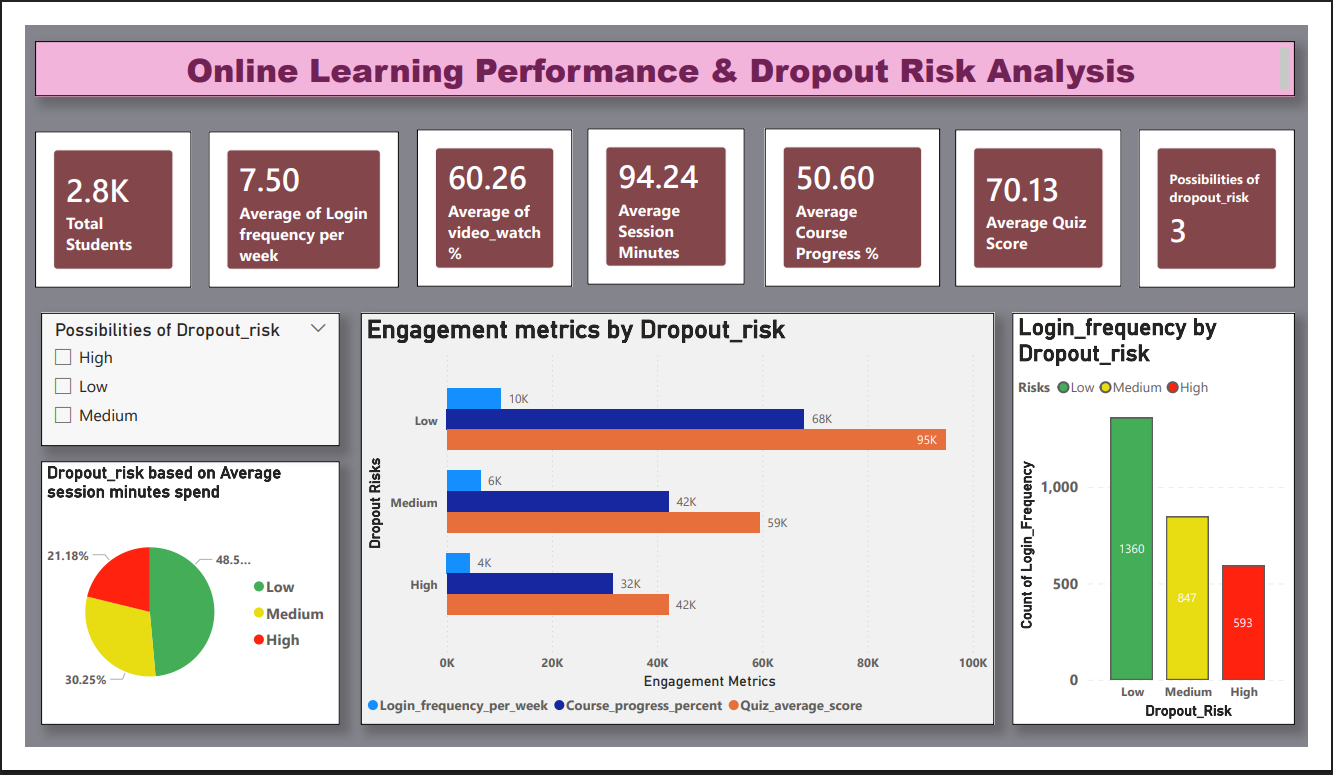

Layout of this report page (visuals, bound fields, positions):
{"tool":"powerbi","page":{"name":"Page 1","canvas":[1280,720],"ordinal":0},"visuals":[{"type":"textbox","box":[9.6,16.5,1257,54.9],"z":0},{"type":"cardVisual","fields":{"Data":["Avg(online_learning_engagement_dropout_risk.video_watch_percent)"]},"box":[391.1,104.3,155.1,156.4],"z":1000},{"type":"cardVisual","fields":{"Data":["Avg(online_learning_engagement_dropout_risk.avg_session_minutes)"]},"box":[561.2,102.9,156.4,156.4],"z":2000},{"type":"cardVisual","fields":{"Data":["Count(online_learning_engagement_dropout_risk.dropout_risk)"]},"box":[1111.5,104.3,155.1,157.8],"z":3000},{"type":"cardVisual","fields":{"Data":["Avg(online_learning_engagement_dropout_risk.quiz_average_score)"]},"box":[927.6,104.3,166,156.4],"z":4000},{"type":"cardVisual","fields":{"Data":["Avg(online_learning_engagement_dropout_risk.course_progress_percent)"]},"box":[738.3,102.9,174.3,157.8],"z":5000},{"type":"pieChart","title":"Dropout_risk based on Average session minutes spend ","fields":{"Category":["online_learning_engagement_dropout_risk.dropout_risk"],"Y":["CountNonNull(online_learning_engagement_dropout_risk.avg_session_minutes)"]},"box":[16.5,435,297.8,263.5],"z":6000},{"type":"columnChart","title":"Login_frequency by Dropout_risk","fields":{"Category":["online_learning_engagement_dropout_risk.dropout_risk"],"Y":["CountNonNull(online_learning_engagement_dropout_risk.login_frequency_per_week)"],"Series":["online_learning_engagement_dropout_risk.dropout_risk"]},"box":[985.3,286.8,281.3,411.7],"z":7000},{"type":"slicer","fields":{"Values":["online_learning_engagement_dropout_risk.dropout_risk"]},"box":[16.5,286.8,297.8,133.1],"z":8000},{"type":"clusteredBarChart","title":"Engagement metrics by Dropout_risk","fields":{"Category":["online_learning_engagement_dropout_risk.dropout_risk"],"Y":["Sum(online_learning_engagement_dropout_risk.login_frequency_per_week)","Sum(online_learning_engagement_dropout_risk.course_progress_percent)","Sum(online_learning_engagement_dropout_risk.quiz_average_score)"]},"box":[334.8,286.8,632.6,411.7],"z":9000},{"type":"cardVisual","fields":{"Data":["Avg(online_learning_engagement_dropout_risk.login_frequency_per_week)"]},"box":[182.5,105.7,190.7,156.4],"z":10000},{"type":"cardVisual","fields":{"Data":["Count(online_learning_engagement_dropout_risk.student_id)"]},"box":[9.6,105.7,156.4,156.4],"z":11000}]}

Visuals, with their boxes on the page's 1280x720 design canvas (x1, y1, x2, y2). These are canvas units, not pixel positions in the 1333x775 screenshot, which may show the page scaled, cropped or inside an application window:
textbox: rect(10, 16, 1267, 71)
cardVisual - Avg(online_learning_engagement_dropout_risk.video_watch_percent): rect(391, 104, 546, 261)
cardVisual - Avg(online_learning_engagement_dropout_risk.avg_session_minutes): rect(561, 103, 718, 259)
cardVisual - Count(online_learning_engagement_dropout_risk.dropout_risk): rect(1112, 104, 1267, 262)
cardVisual - Avg(online_learning_engagement_dropout_risk.quiz_average_score): rect(928, 104, 1094, 261)
cardVisual - Avg(online_learning_engagement_dropout_risk.course_progress_percent): rect(738, 103, 913, 261)
"Dropout_risk based on Average session minutes spend " pieChart: rect(16, 435, 314, 698)
"Login_frequency by Dropout_risk" columnChart: rect(985, 287, 1267, 698)
slicer - online_learning_engagement_dropout_risk.dropout_risk: rect(16, 287, 314, 420)
"Engagement metrics by Dropout_risk" clusteredBarChart: rect(335, 287, 967, 698)
cardVisual - Avg(online_learning_engagement_dropout_risk.login_frequency_per_week): rect(182, 106, 373, 262)
cardVisual - Count(online_learning_engagement_dropout_risk.student_id): rect(10, 106, 166, 262)
